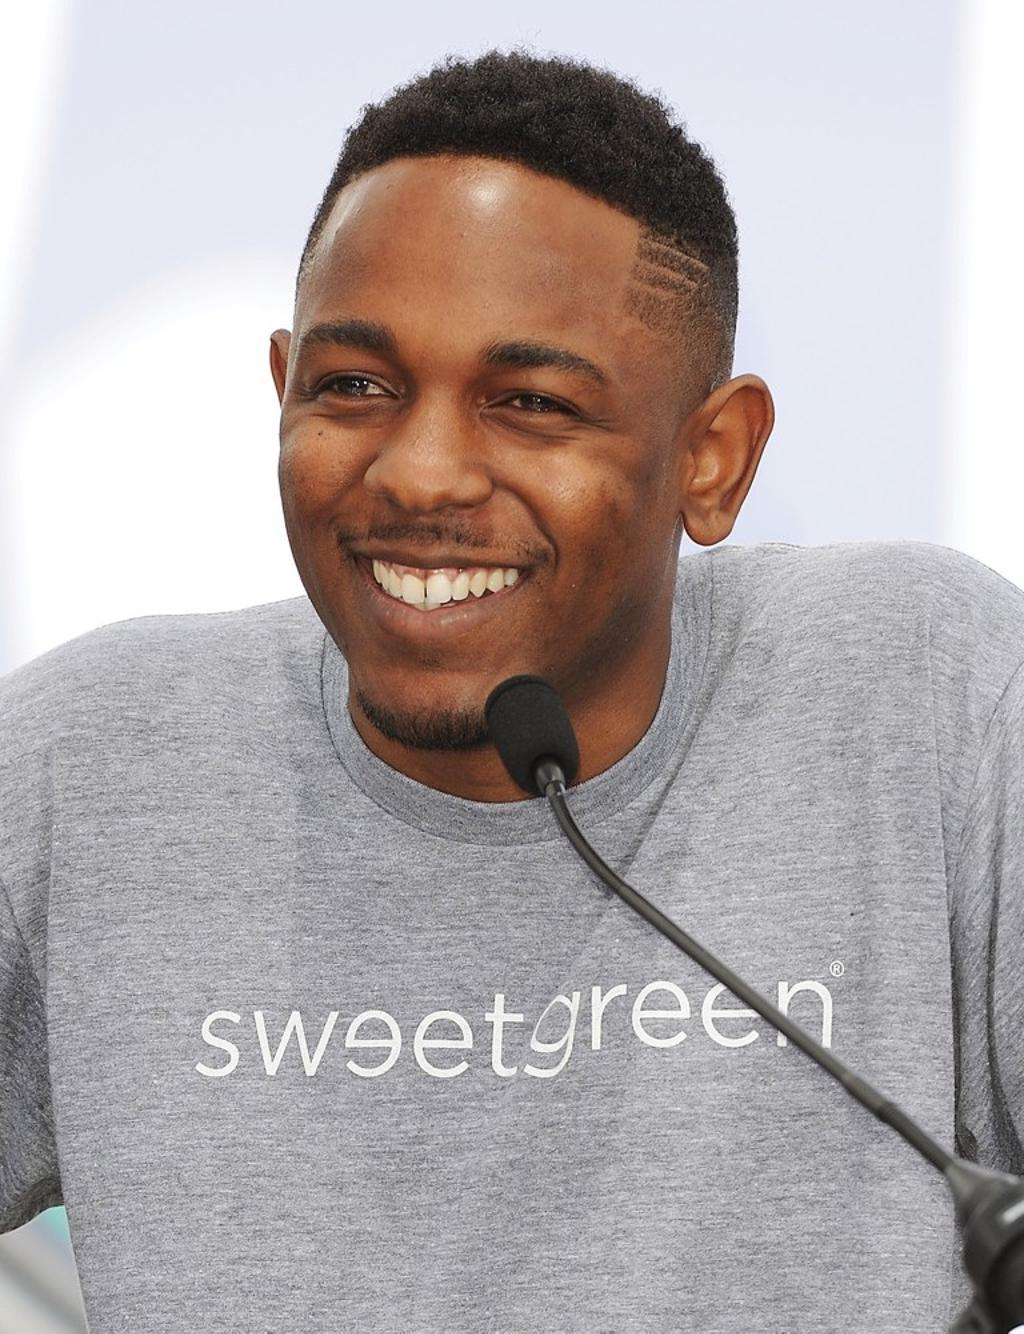face: (282, 168, 681, 741)
